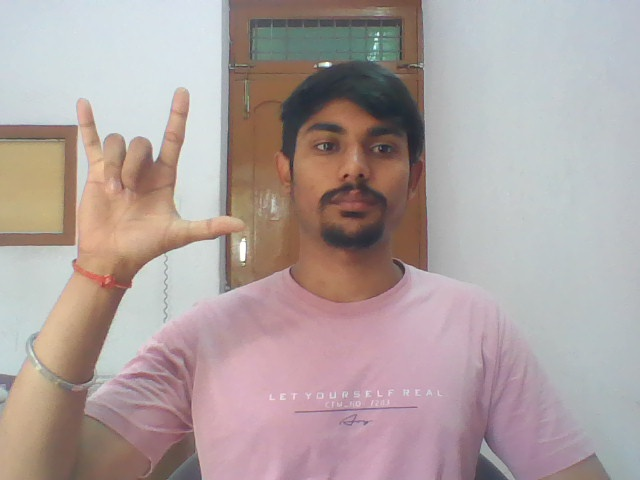I Love You: (50, 83, 263, 264)
